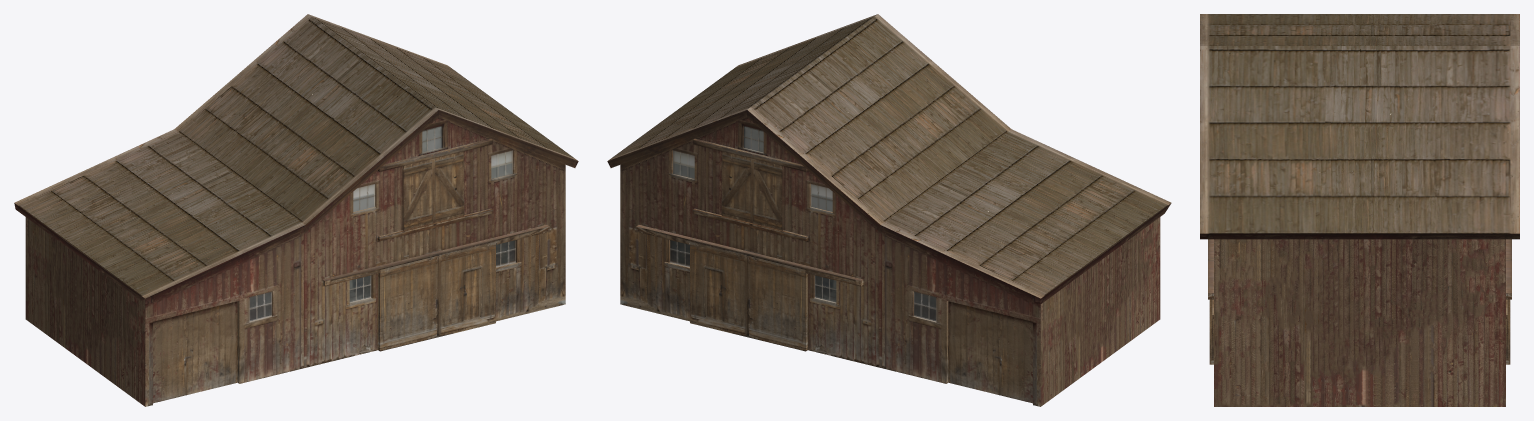
File: Barn.fbx
3 views of the same model, side by side, from view 1: azimuth 30°, elevation 25°; view 2: azimuth 150°, elevation 25°; view 3: azimuth 270°, elevation 25° (orthographic). The views are drawn at different scales.
Visible parts, largest first — view 1: barn; view 2: barn; view 3: barn.
Part boxes in pixels (bbox=[...]): barn: bbox=[14, 14, 578, 406]; barn: bbox=[607, 14, 1171, 406]; barn: bbox=[1200, 14, 1519, 406].
Bounding box in the file's own units: 1463 × 745 × 765.
